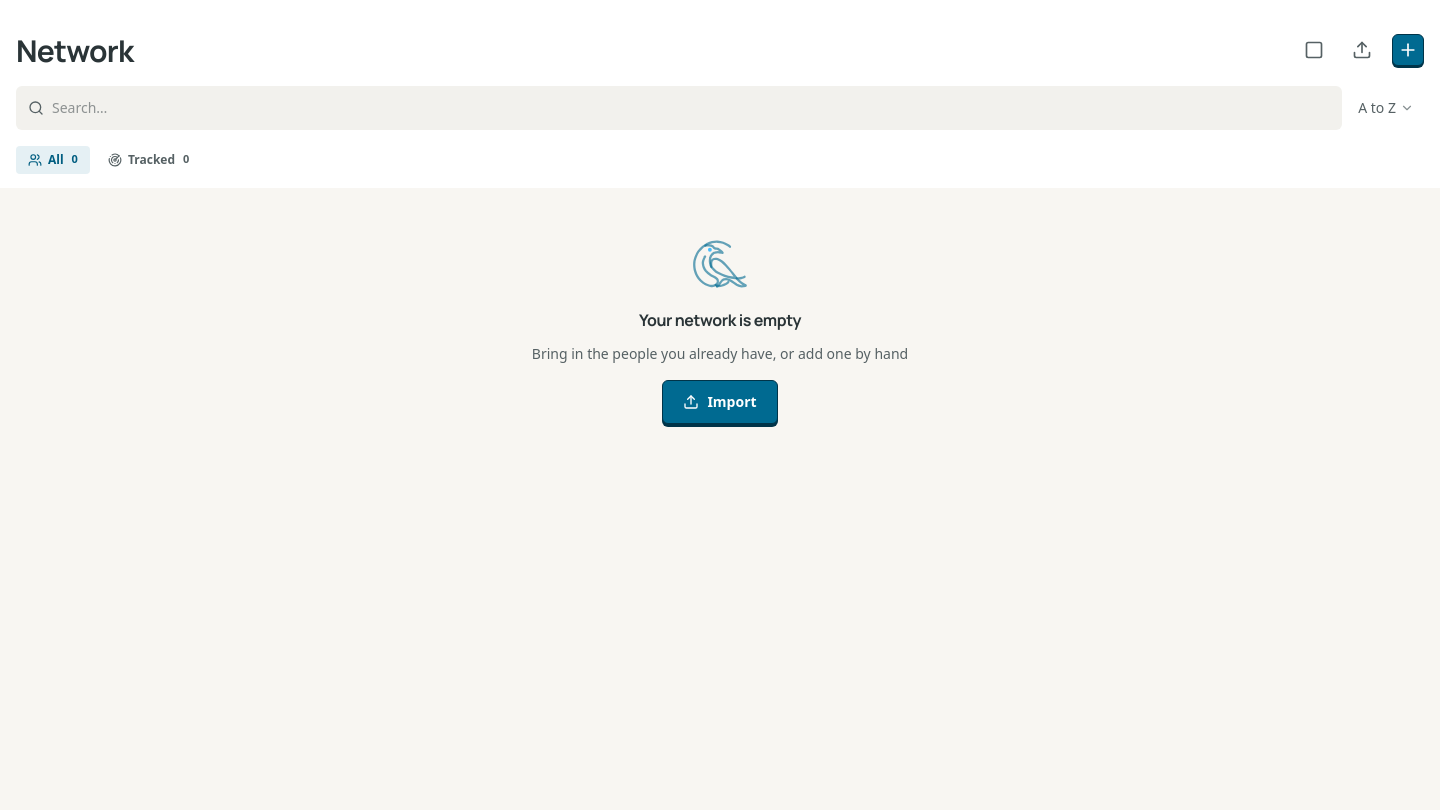
Add from text › opens the form filled in when the text was read, and saves what is kept
Click the button named "New" at (1408, 50), box [1392,34,1424,66]
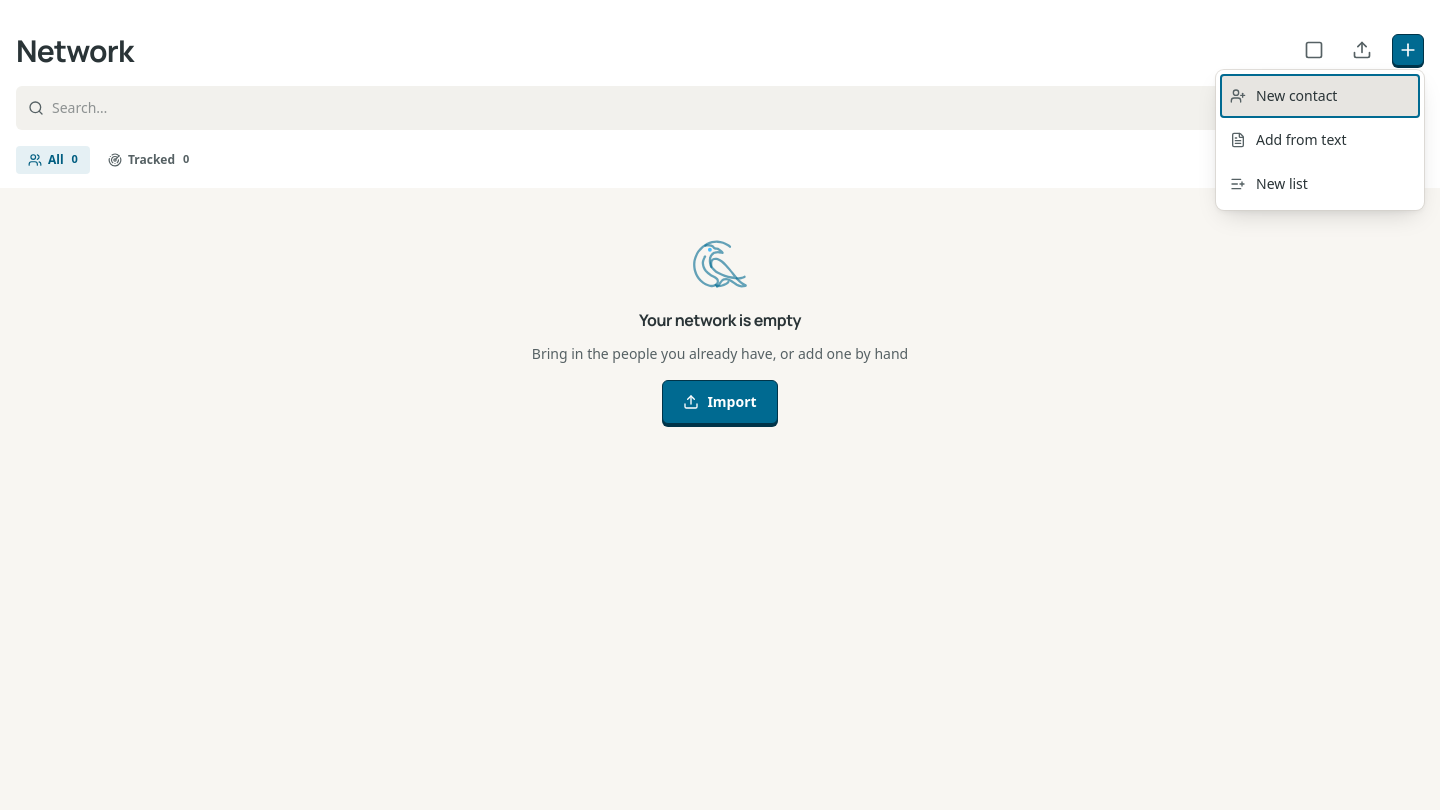
Click the menu item "Add from text" at (1320, 140), box [1220,118,1420,162]
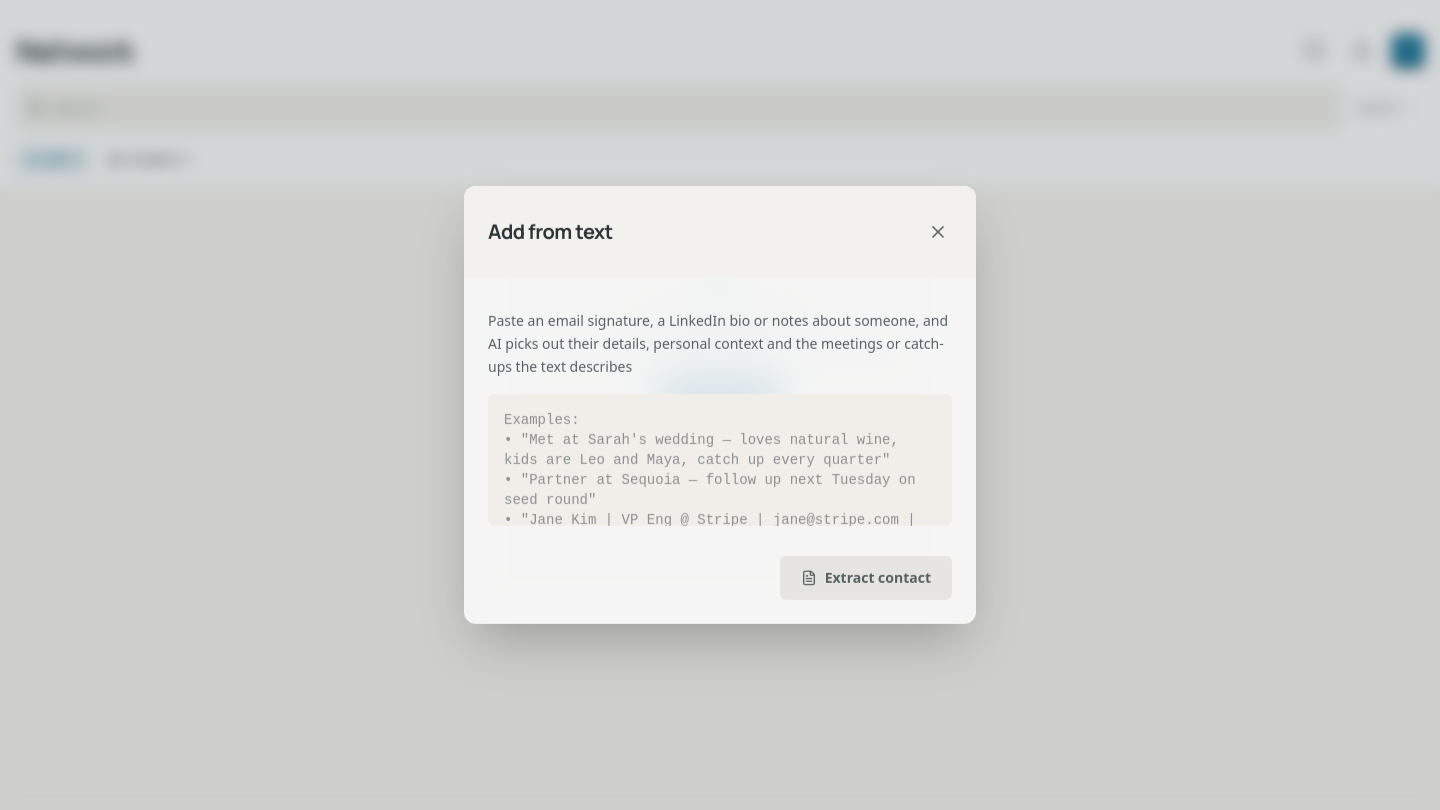
Replace the text in the text box named "Paste contact details" with "Priya Raman, CTO at Northwind" at (720, 460), box [488,394,952,526]
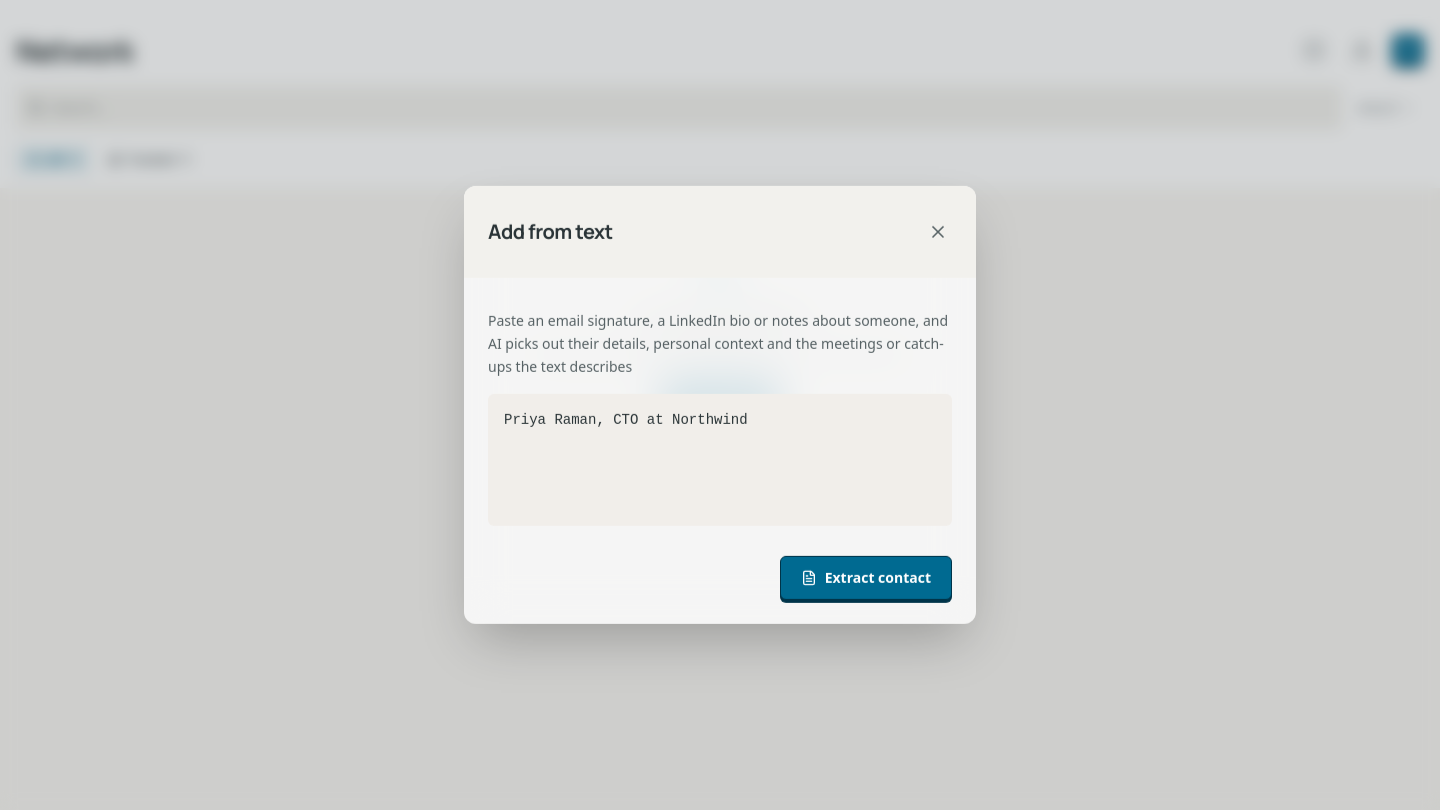
Click the button "Extract contact" at (866, 578), box [780,556,952,600]
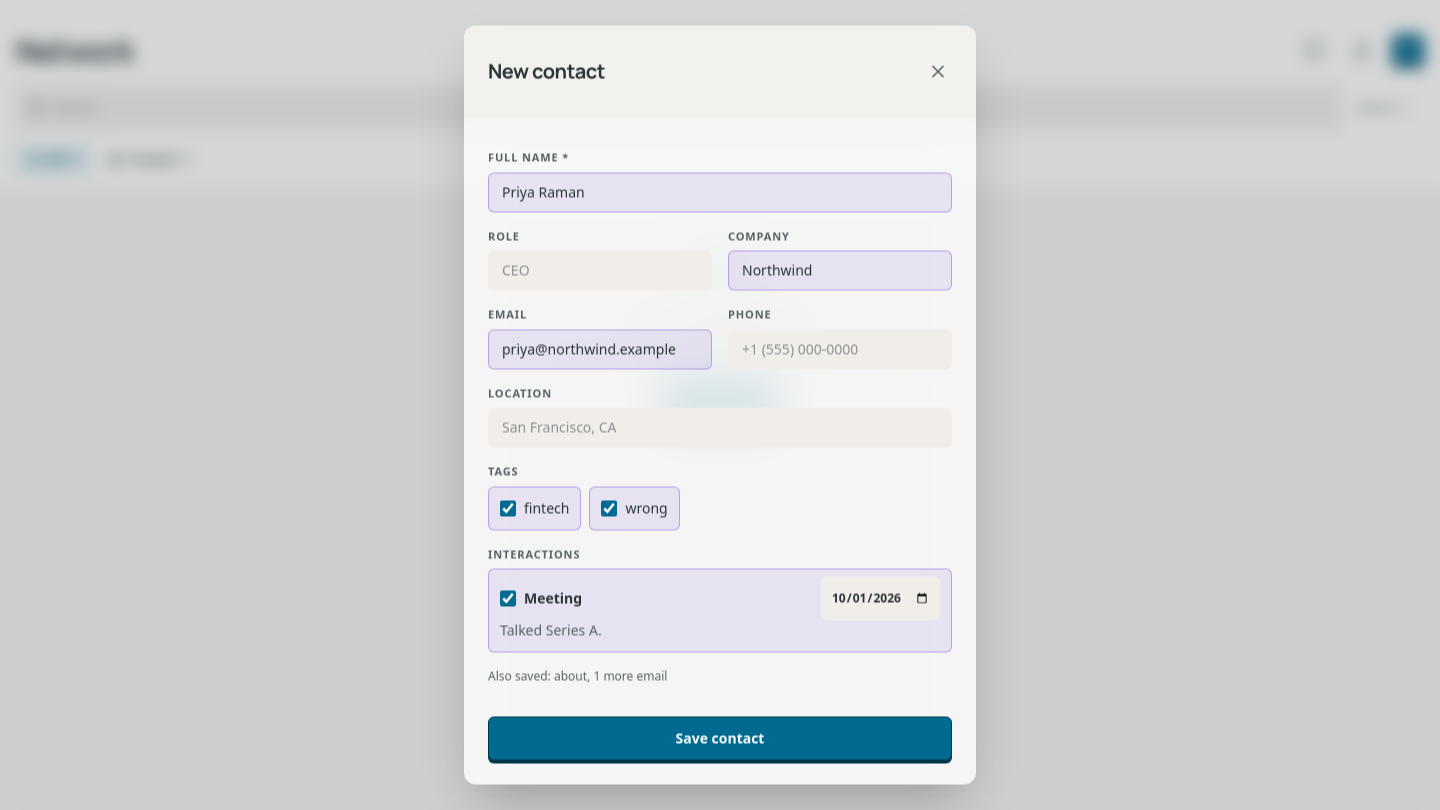
Expected: the heading "Add from text" is gone
Expected: the text "Also saved: about, 1 more email" is shown, [488,668,667,684]
Click the checkbox labelled "wrong" at (609, 508), box [601,500,617,516]
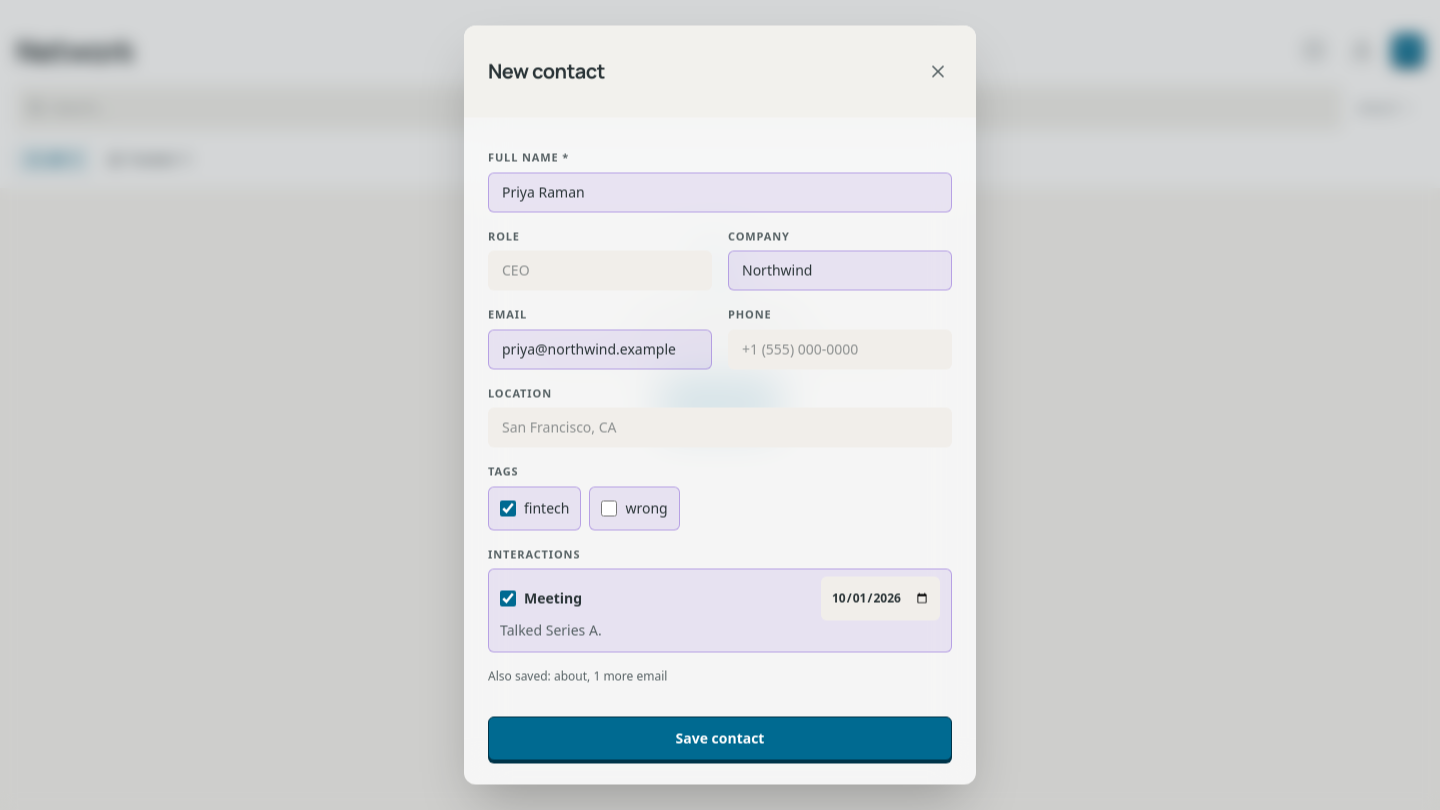
Type "2026-09-30" into the date field named "Date of the meeting" at (880, 598), box [821,576,940,620]
Click the button "Save contact" at (720, 738), box [488,716,952,760]
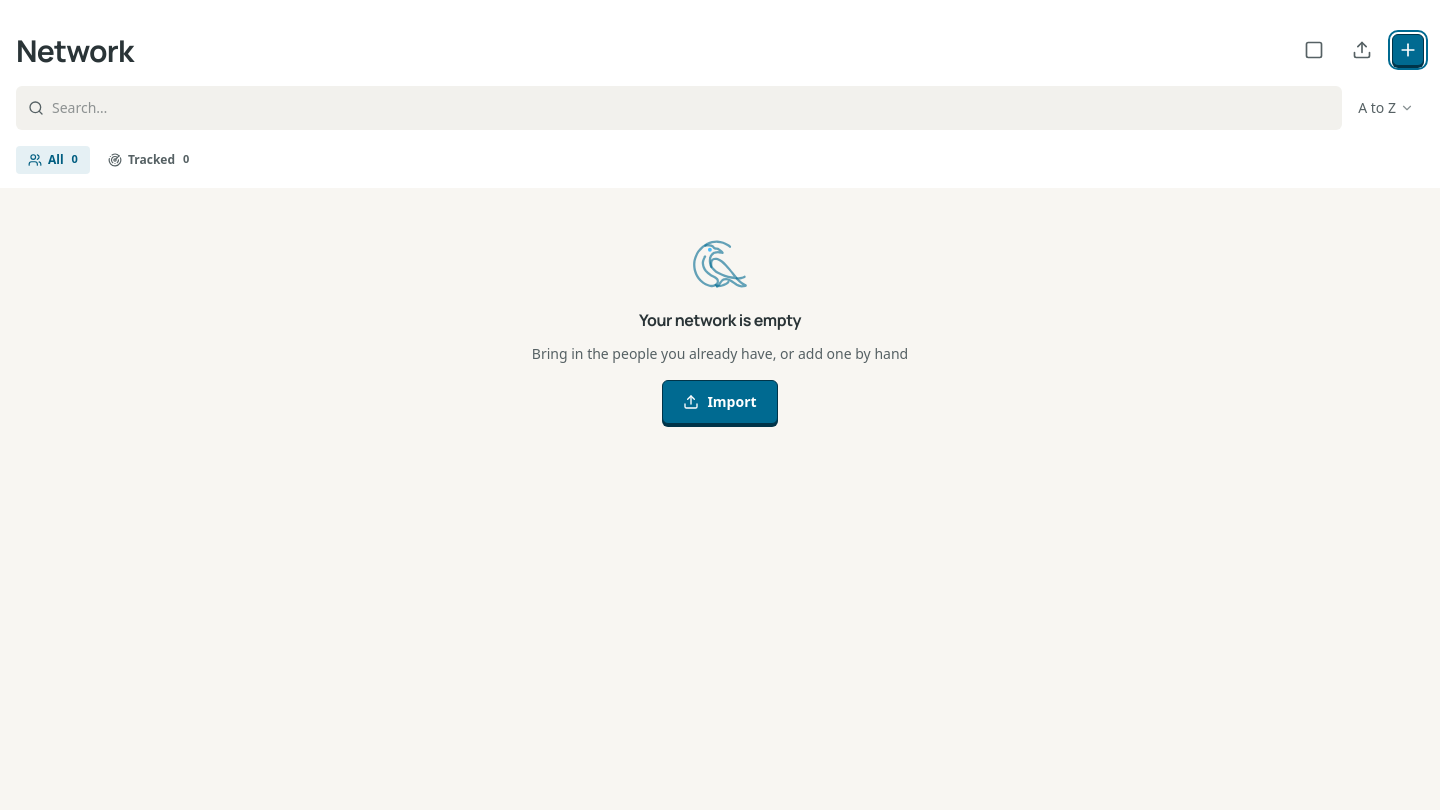
Expected: the heading "New contact" is gone
